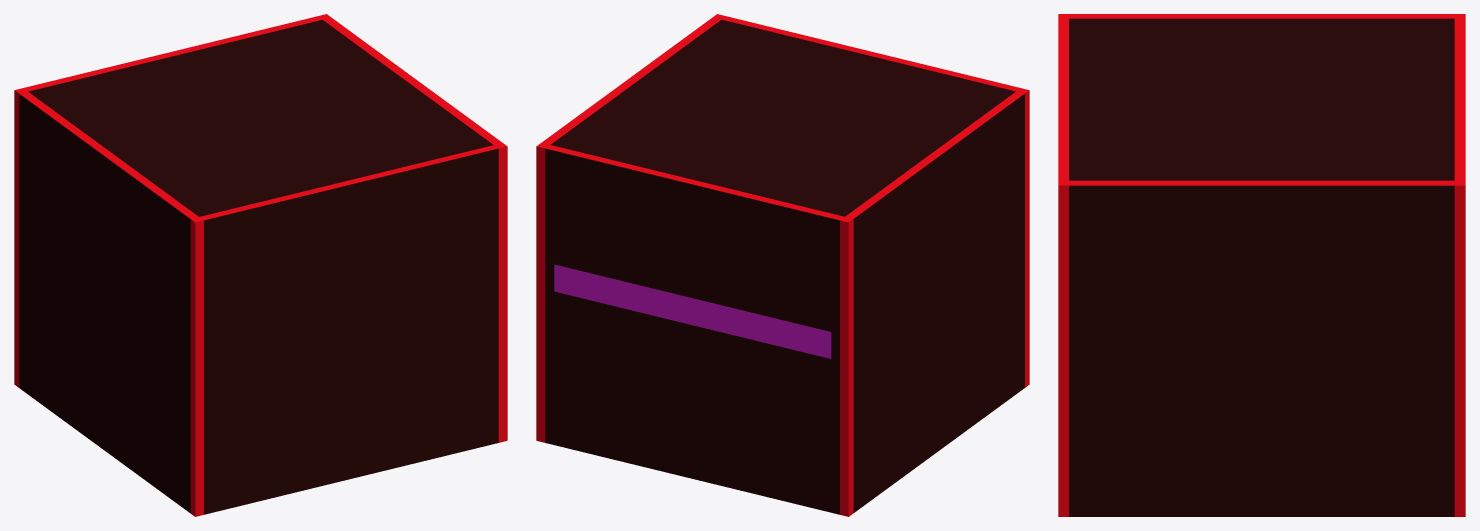
Rendered from GlowiMask.fbx.
The picture shows the model from 3 angles, left to right: view 1: azimuth 30°, elevation 25°; view 2: azimuth 150°, elevation 25°; view 3: azimuth 270°, elevation 25°; orthographic projection. The views are drawn at different scales.
Parts seen in each view (by area): view 1: CAGOULE.004; view 2: CAGOULE.004; view 3: CAGOULE.004.
Part boxes in pixels (<box>): CAGOULE.004: <box>14,14,507,516</box>; CAGOULE.004: <box>536,14,1029,516</box>; CAGOULE.004: <box>1058,14,1465,516</box>.
Size of the model in its own units: 113 by 102 by 113.
